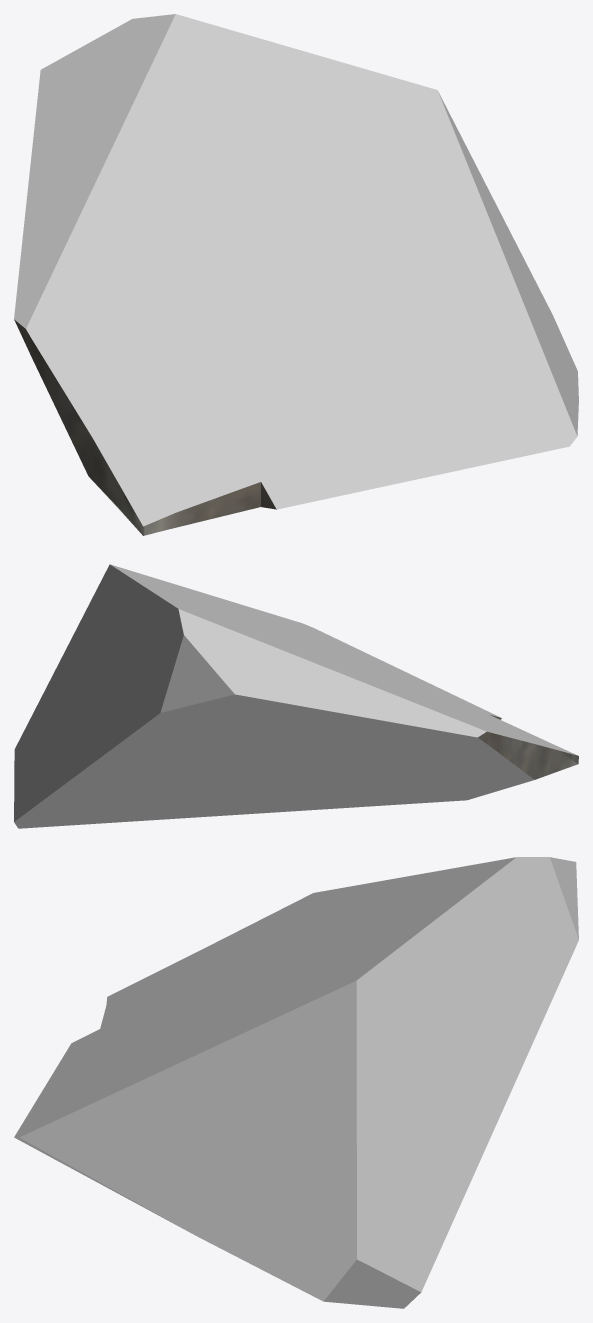
The model's file is ColumnDamage08_14.fbx.
3 views of the same model, one above another, from view 1: azimuth 30°, elevation 25°; view 2: azimuth 150°, elevation 25°; view 3: azimuth 270°, elevation 25° (orthographic). The views are drawn at different scales.
Parts seen in each view (by area): view 1: ColumnDamage08_DM.014; view 2: ColumnDamage08_DM.014; view 3: ColumnDamage08_DM.014.
Boxes of the visible parts, x1,y1,x2,y2 form: ColumnDamage08_DM.014: (14,14,578,535); ColumnDamage08_DM.014: (14,564,578,828); ColumnDamage08_DM.014: (14,857,578,1308).
Size of the model in its own units: 138 by 88.71 by 134.
